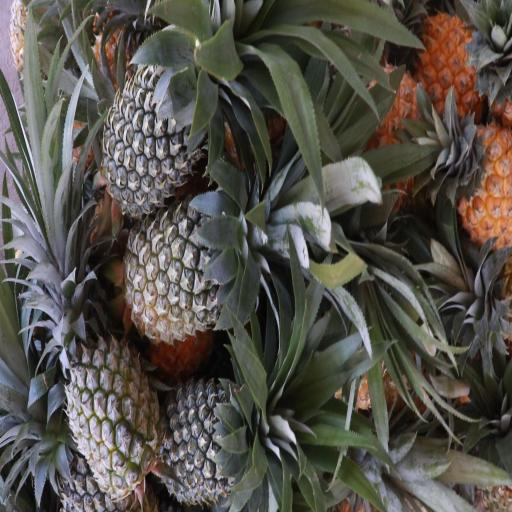------------------------------: (128, 203, 250, 336), (67, 334, 156, 486)
Pineapple - v8 v1: (422, 7, 503, 117), (444, 120, 512, 246)
